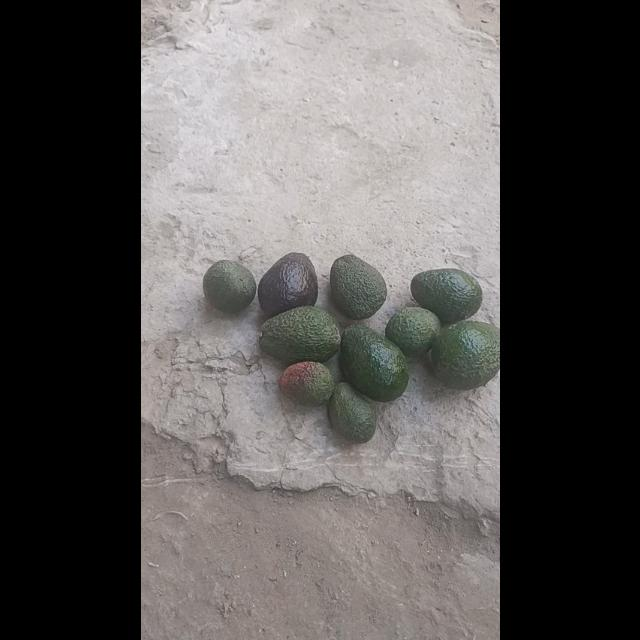Primera: (338, 325, 408, 401), (428, 320, 498, 388), (258, 306, 342, 362), (256, 252, 320, 316), (410, 267, 482, 323), (328, 253, 388, 319)
Segunda: (202, 260, 254, 312), (386, 306, 440, 356)
Tercera: (327, 381, 375, 442), (278, 359, 334, 406)
